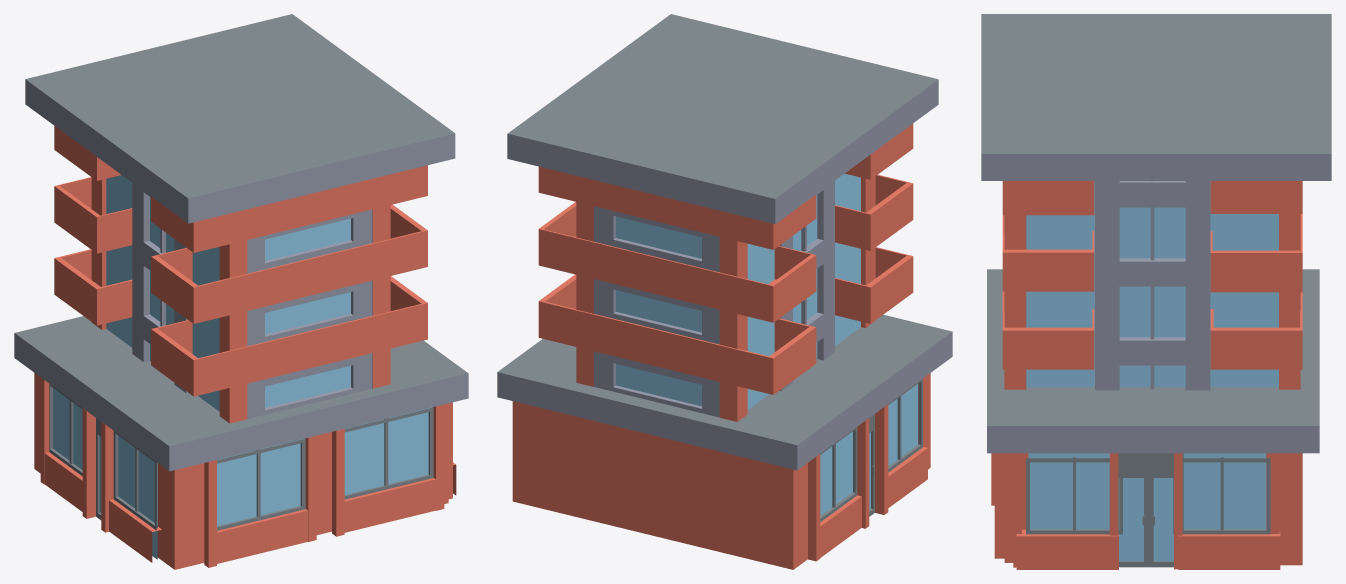
File: putong_zhongxing03.fbx
The picture shows the model from 3 angles, left to right: view 1: azimuth 30°, elevation 25°; view 2: azimuth 150°, elevation 25°; view 3: azimuth 270°, elevation 25°; orthographic projection. The views are drawn at different scales.
Visible parts, largest first — view 1: putong_zhongxing03004, putong_zhongxing03000, putong_zhongxing03003, putong_zhongxing03002, putong_zhongxing03001; view 2: putong_zhongxing03004, putong_zhongxing03000, putong_zhongxing03003, putong_zhongxing03002, putong_zhongxing03001; view 3: putong_zhongxing03004, putong_zhongxing03000, putong_zhongxing03003, putong_zhongxing03002, putong_zhongxing03001.
Part boxes in pixels (x1,y1,x2,y2): putong_zhongxing03004: (14,316,468,569); putong_zhongxing03000: (25,14,455,223); putong_zhongxing03003: (54,249,427,423); putong_zhongxing03002: (54,177,427,350); putong_zhongxing03001: (54,126,427,277); putong_zhongxing03004: (497,314,952,569); putong_zhongxing03000: (507,14,938,223); putong_zhongxing03003: (538,247,913,421); putong_zhongxing03002: (538,174,913,348); putong_zhongxing03001: (538,123,913,275); putong_zhongxing03004: (987,269,1319,569); putong_zhongxing03000: (981,14,1331,180); putong_zhongxing03003: (1002,291,1302,390); putong_zhongxing03002: (1002,214,1302,311); putong_zhongxing03001: (1002,181,1302,233).
Bounding box in the file's own units: 5.01 × 6.04 × 4.71.
